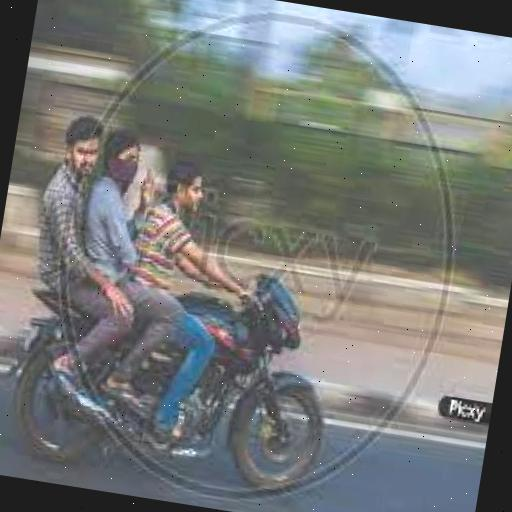no helmet: (147, 146, 223, 250)
triple riding: (6, 97, 372, 486)
